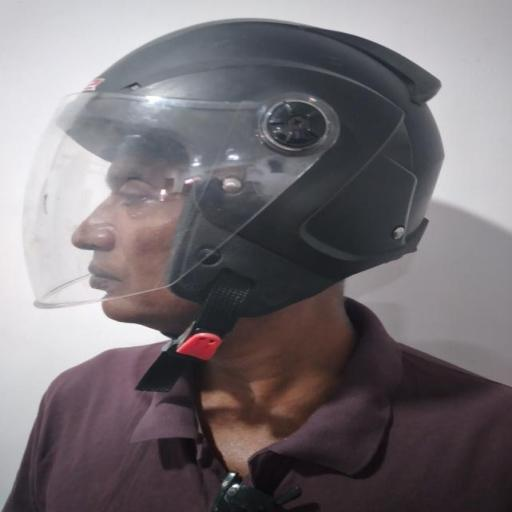with helmet: (25, 16, 448, 316)
